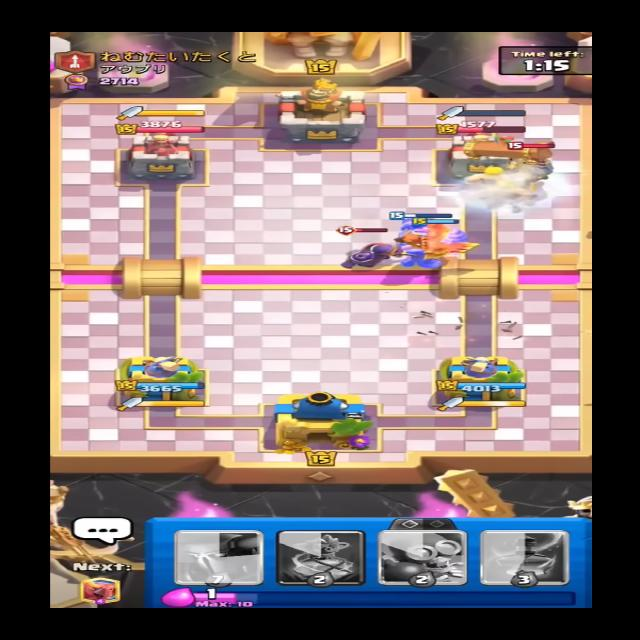evo-knight: (338, 226, 404, 268)
prince: (495, 140, 566, 187)
